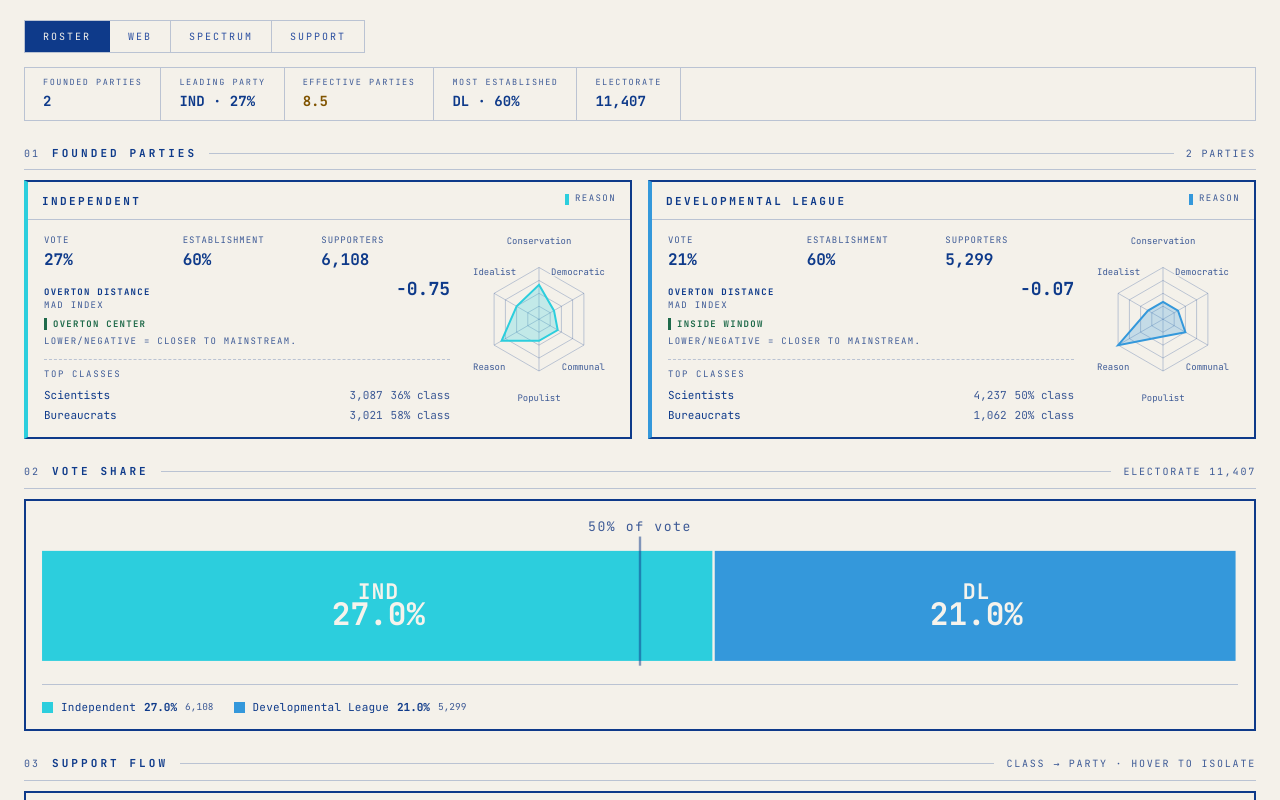
Scenario: Parties page › Support tab exposes the class × party heatmaps
The image size is (1280, 800).
Click the tab "Support": (318, 36) [272,21,364,52]
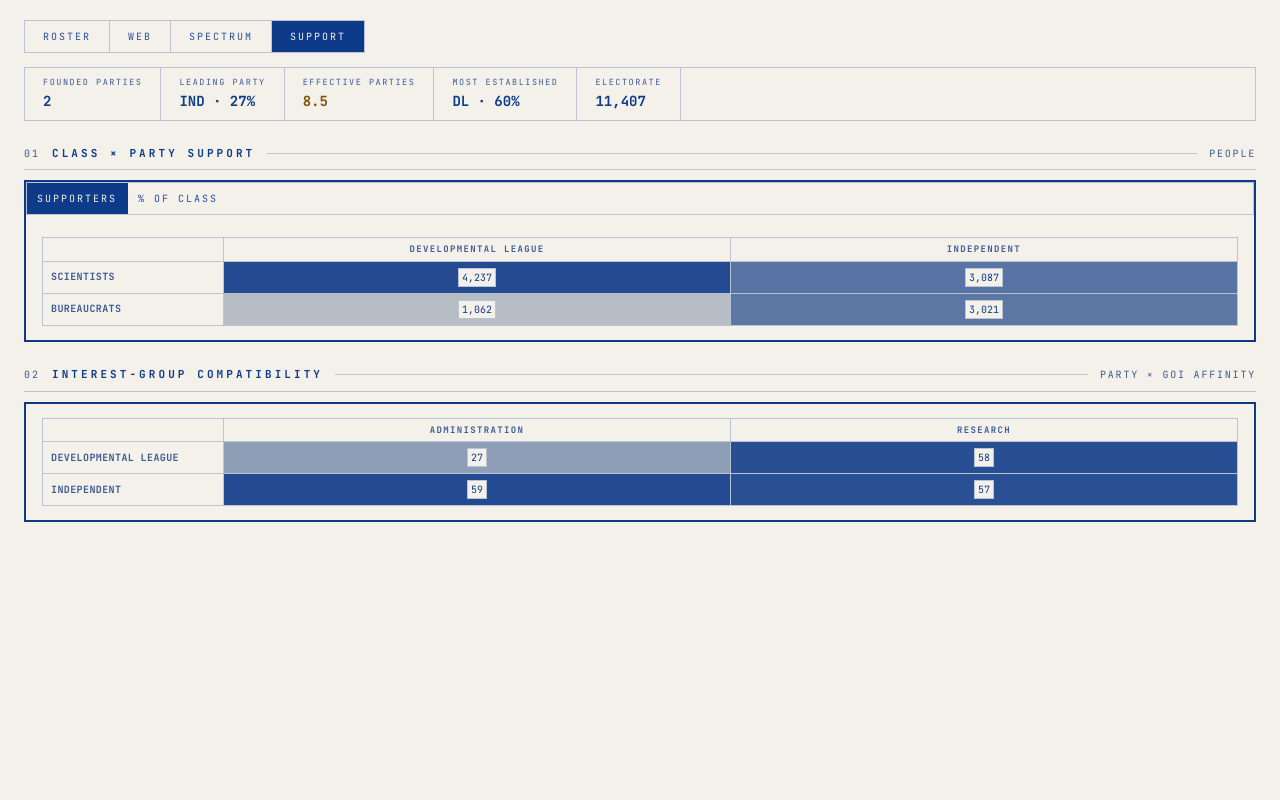
Expected: the text "4,237" is shown, [458,268,496,287]
Expected: the heading "Class × Party Support" is shown, [52,145,255,161]
Expected: the button "% of Class" is shown, [128,183,228,214]
